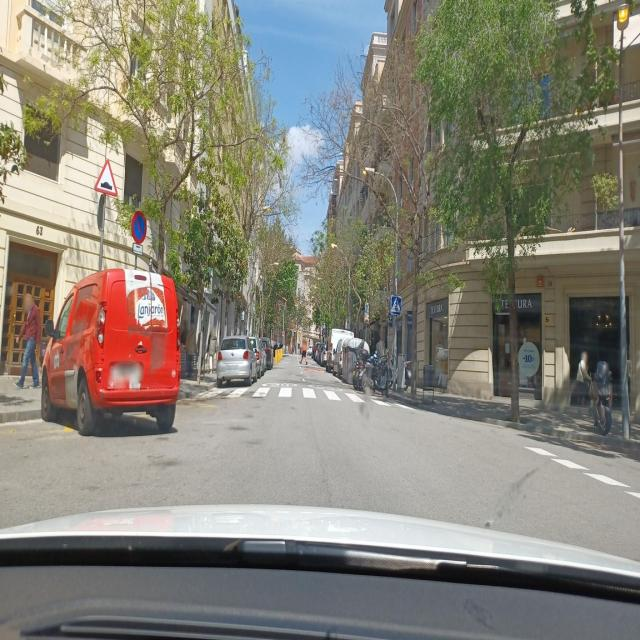forb_stopping: (131, 211, 147, 244)
